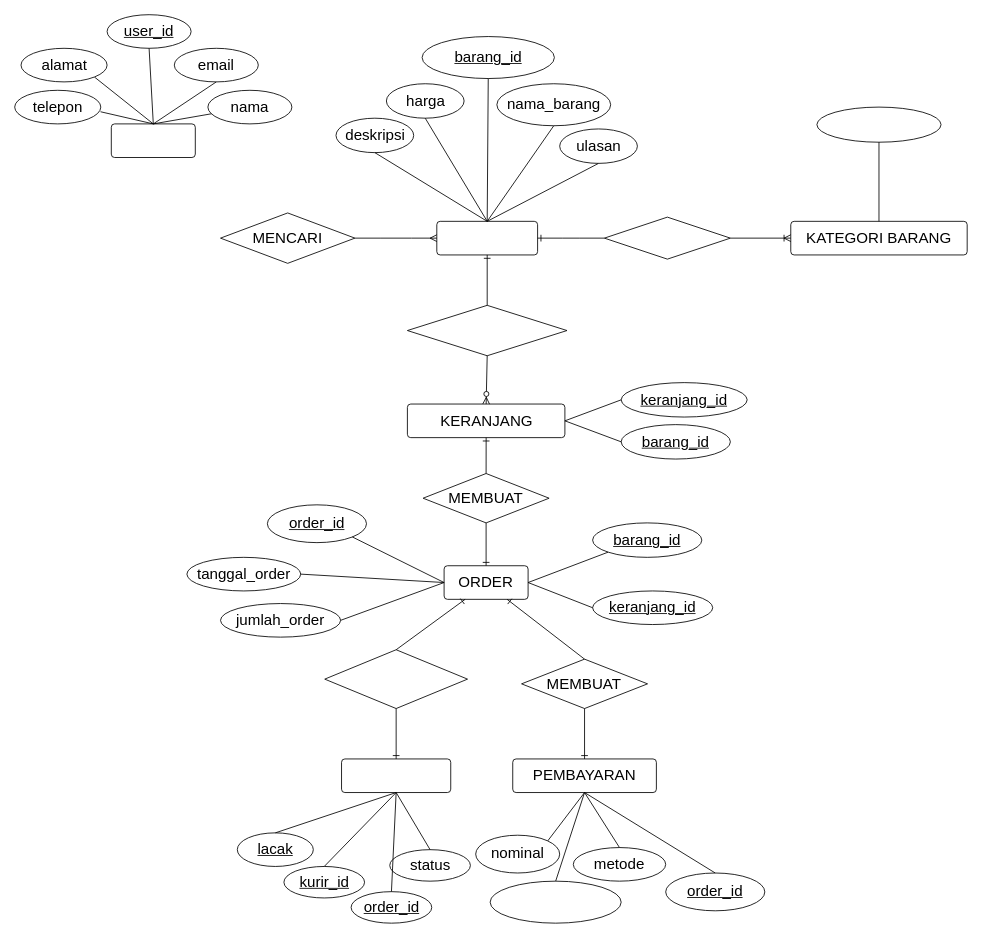
This 982x938 diagram has some shape labels left out. The centre of each missing label's shape, as x and y in pixels:
"BARANG" goes at point (487, 237).
"DIMASUKAN" goes at point (487, 330).
"kategori_id" goes at point (878, 124).
"KURIR" goes at point (396, 775).
"MEMILIKI" goes at point (667, 237).
"pembayaran_id" goes at point (555, 901).
"PENGIRIMAN" goes at point (396, 679).
"USER" goes at point (152, 140).
